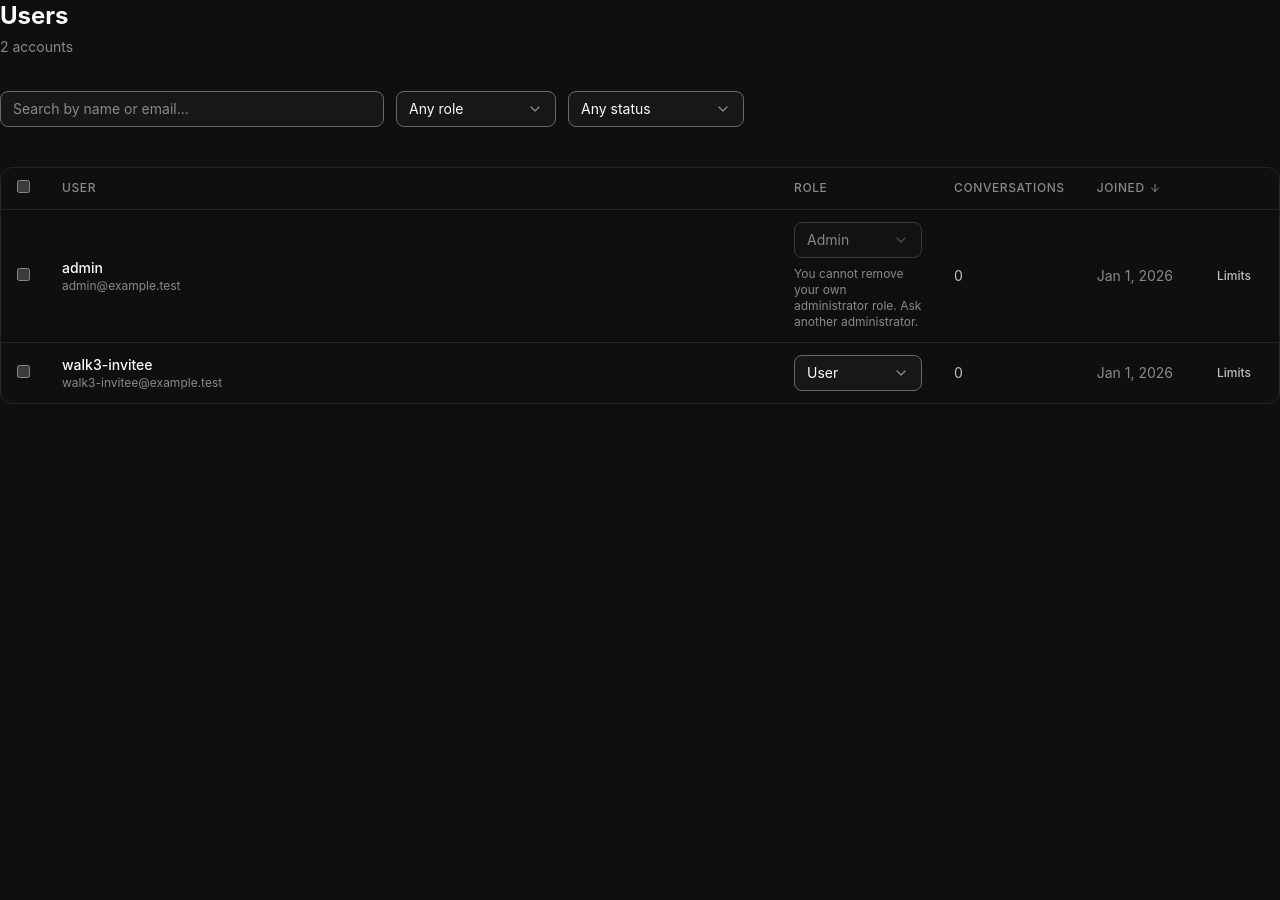
asks before signing accounts out, then says what it did
Click the checkbox named "Select admin@example.test".
click(24, 274)  # box x1=17 y1=268 x2=30 y2=281
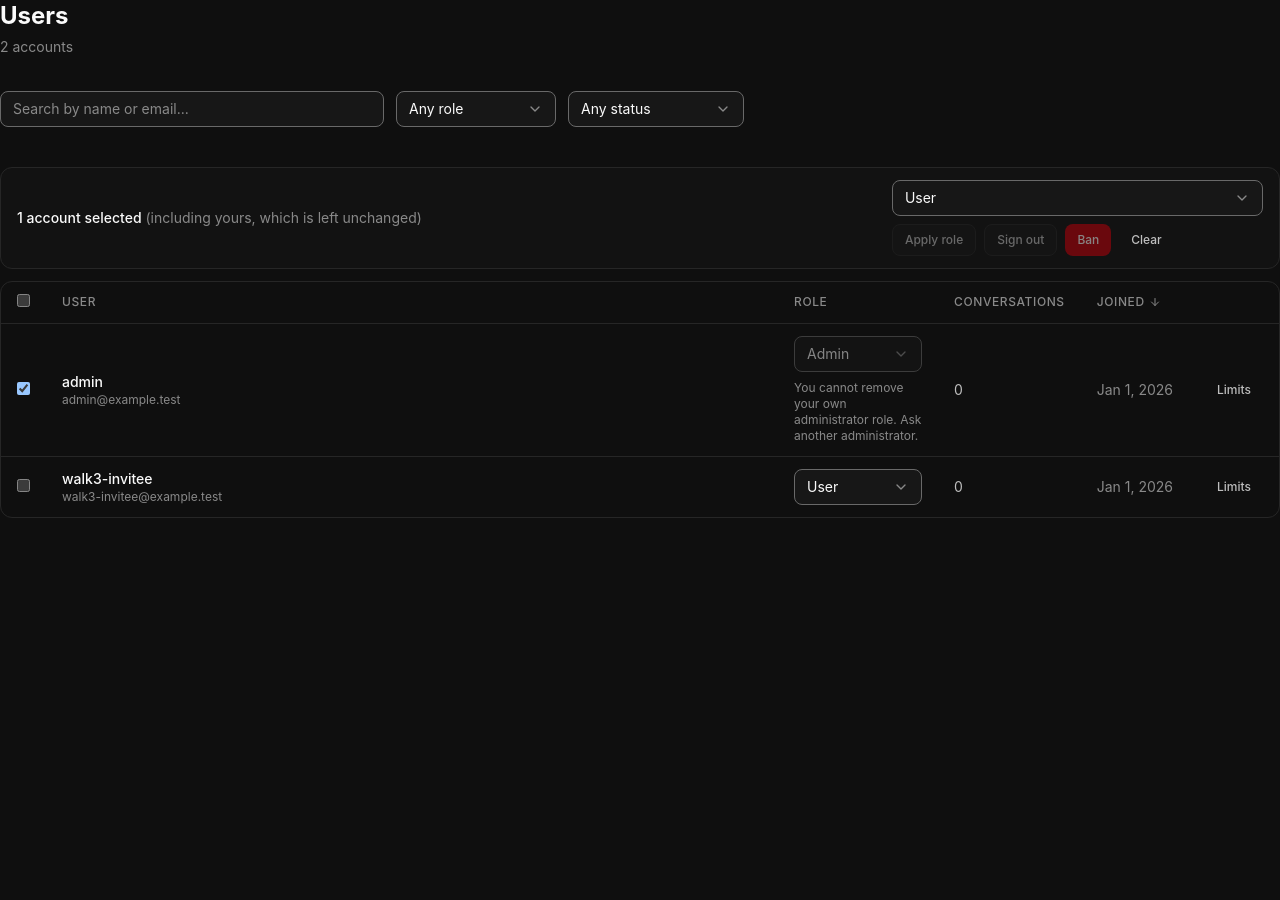
Click the checkbox named "Select walk3-invitee@example.test".
click(24, 485)  # box x1=17 y1=479 x2=30 y2=492
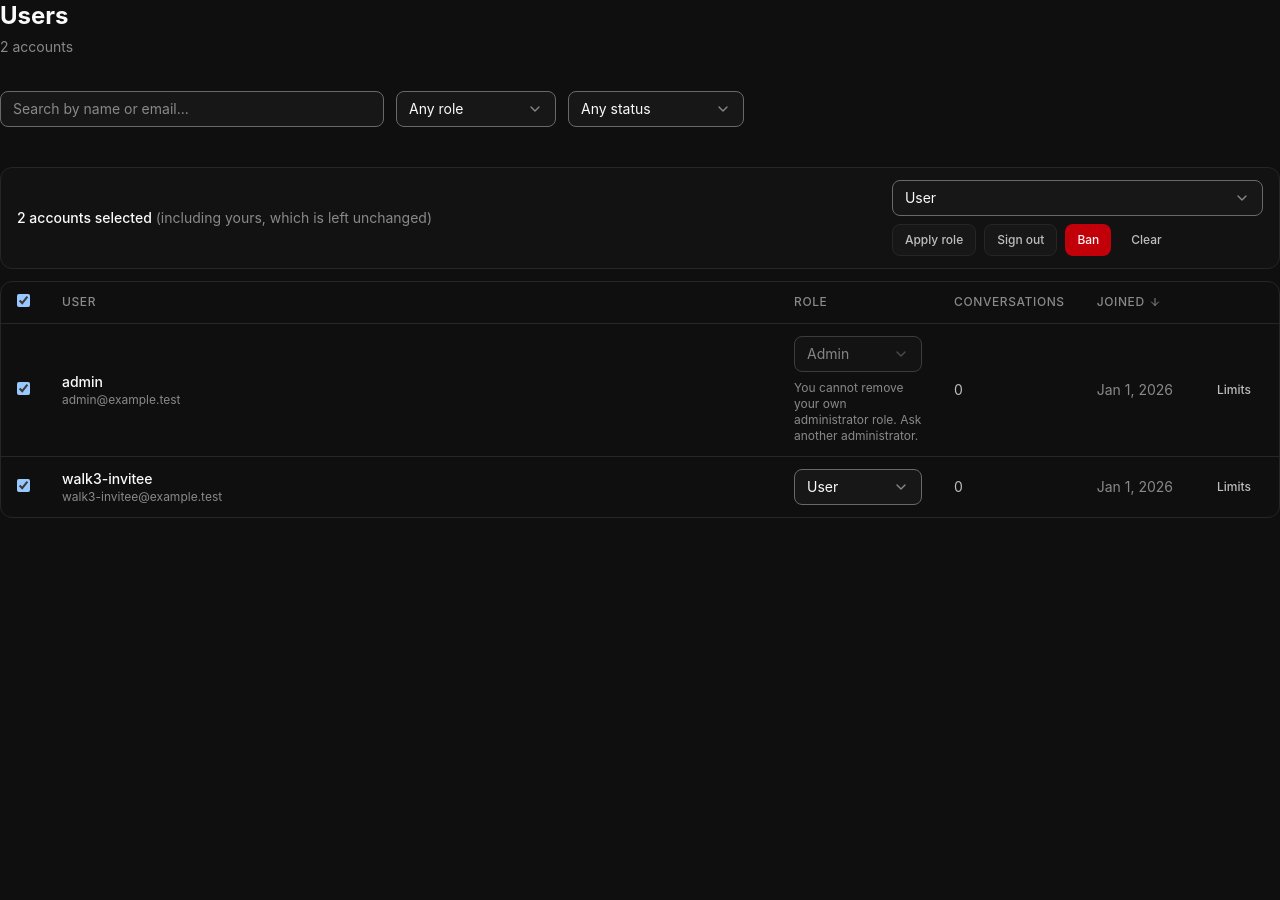
Expected: the text "2 accounts selected" is shown, x1=17 y1=208 x2=432 y2=228
Click the button "Sign out".
click(1021, 240)  # box x1=984 y1=224 x2=1057 y2=256
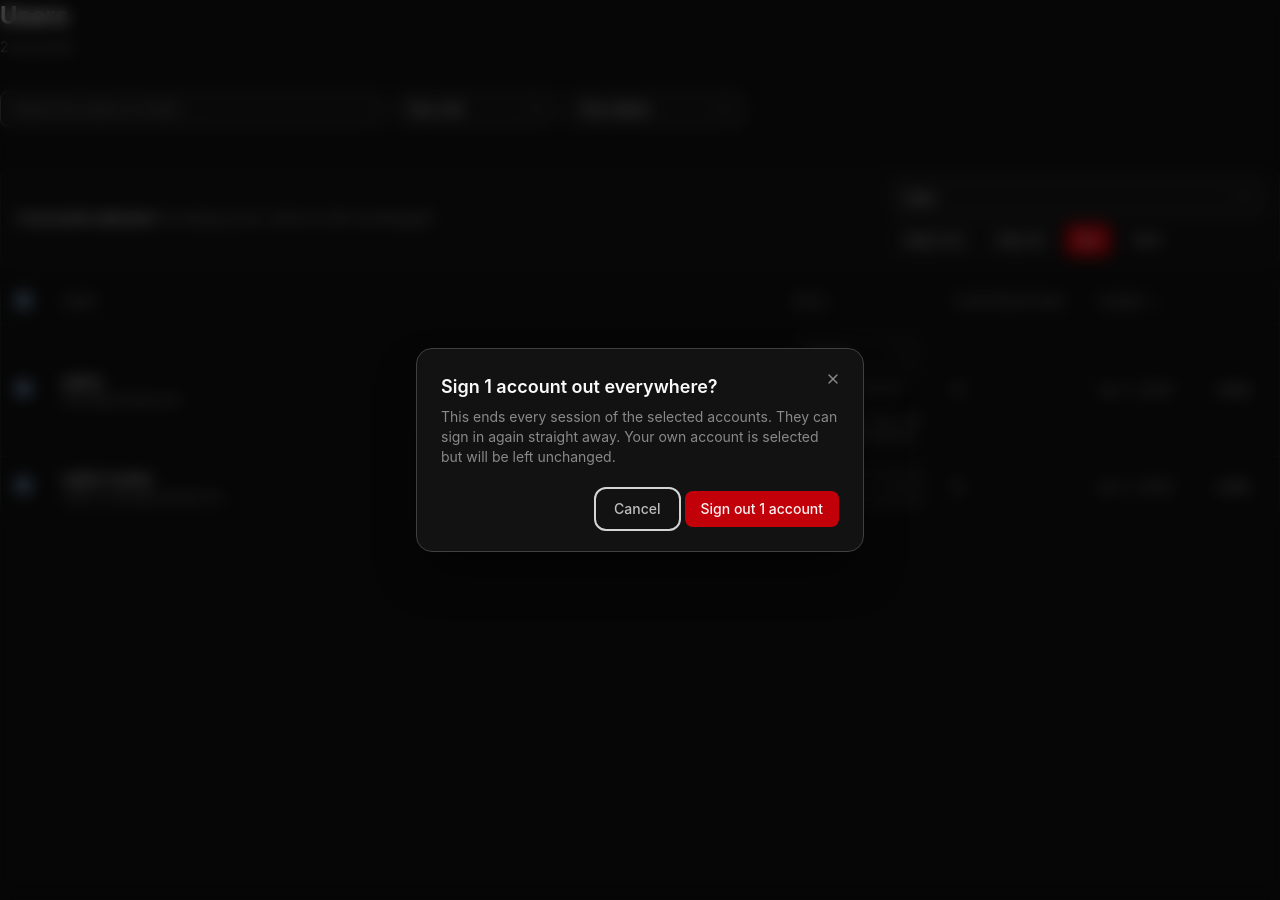
Expected: the dialog shows "Sign 1 account out everywhere?", x1=441 y1=376 x2=718 y2=397
Click the button "Sign out 1 account".
click(762, 509)  # box x1=684 y1=491 x2=839 y2=527
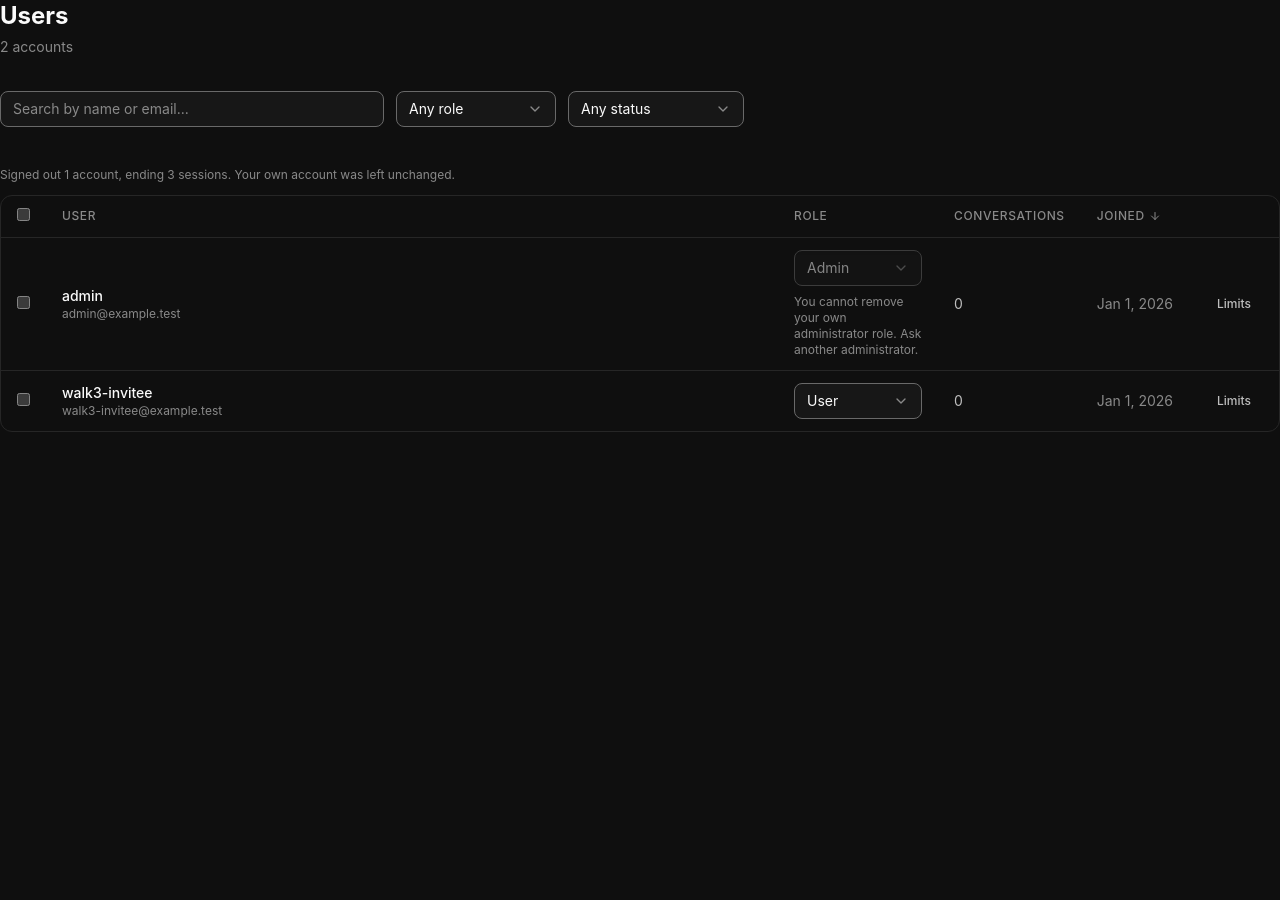
Expected: the dialog is gone
Expected: the message "Signed out 1 account, ending 3 sessions. Your own account was left unchanged." is shown, x1=0 y1=167 x2=455 y2=182
